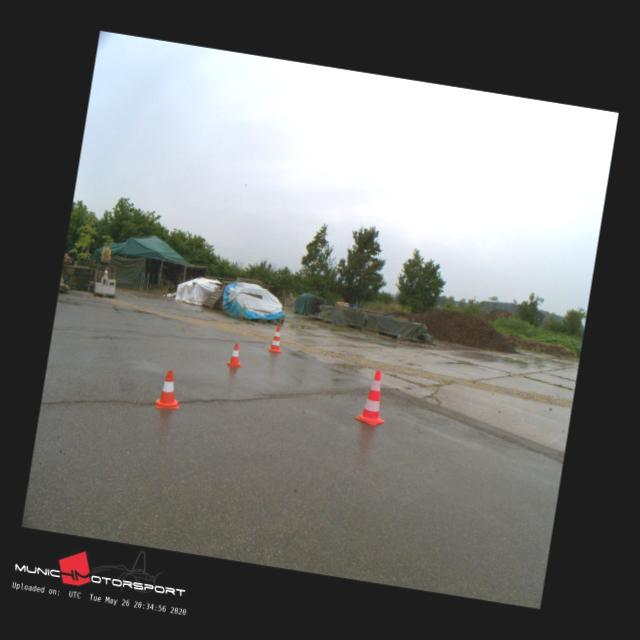large_orange_cone: (353, 368, 392, 427), (268, 324, 285, 353)
orange_cone: (155, 368, 184, 411), (226, 342, 244, 367)
